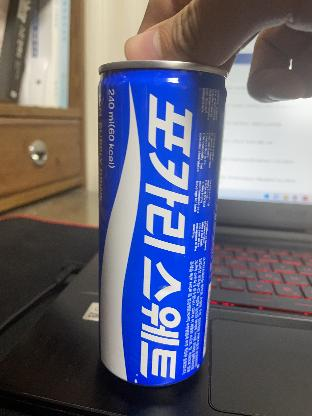Can: (98, 59, 230, 387)
